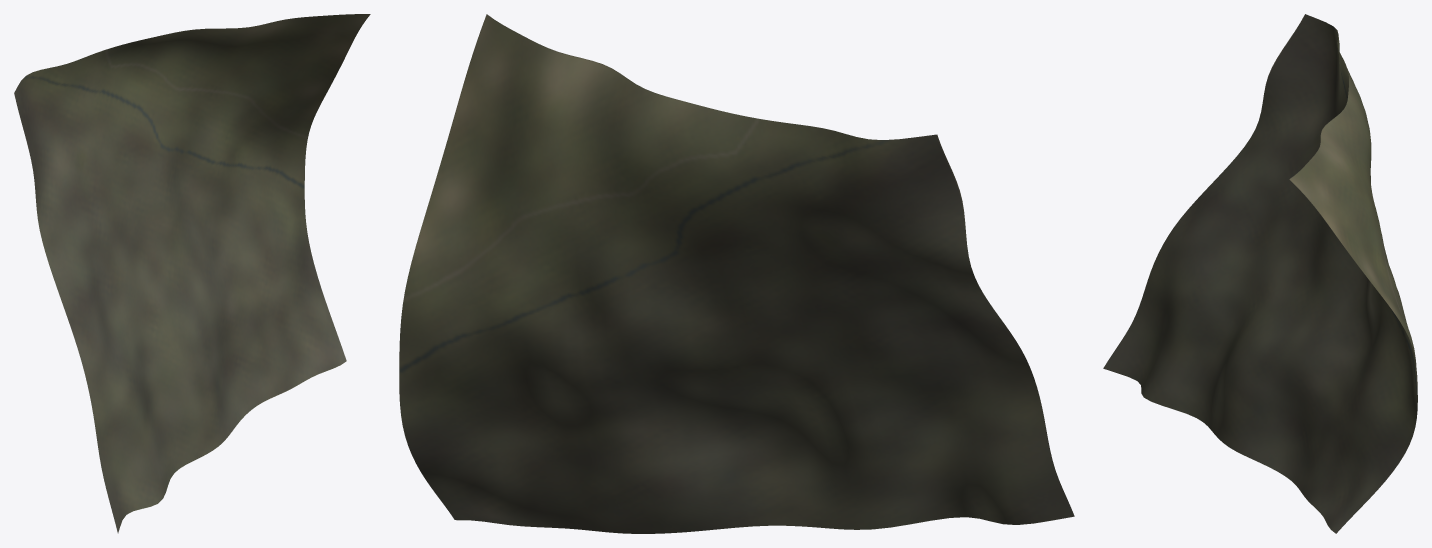
File: ground_mid_02_08.obj
3 renders of one model, left to right at view 1: azimuth 30°, elevation 25°; view 2: azimuth 150°, elevation 25°; view 3: azimuth 270°, elevation 25°, orthographic. The views are drawn at different scales.
Visible parts, largest first — view 1: ground_mid_02_08; view 2: ground_mid_02_08; view 3: ground_mid_02_08.
Part boxes in pixels (bbox=[...]): ground_mid_02_08: bbox=[14, 14, 370, 533]; ground_mid_02_08: bbox=[399, 14, 1074, 533]; ground_mid_02_08: bbox=[1103, 14, 1417, 533].
Size of the model in its own units: 200 by 200 by 161.
1 material, 1 textured.
